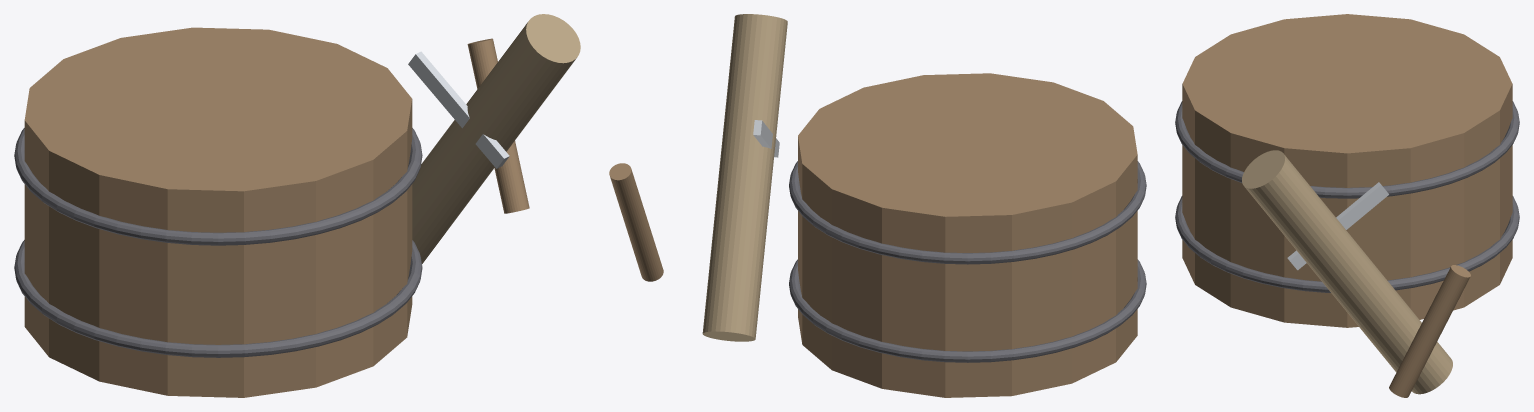
File: tannery_vat.glb
The picture shows the model from 3 angles, left to right: view 1: azimuth 30°, elevation 25°; view 2: azimuth 150°, elevation 25°; view 3: azimuth 270°, elevation 25°; orthographic projection. The views are drawn at different scales.
Parts seen in each view (by area): view 1: Cylinder, Cylinder.002, Torus, Torus.001, Cylinder.003, Cube; view 2: Cylinder, Cylinder.002, Torus.001, Torus, Cylinder.003, Cube; view 3: Cylinder, Cylinder.002, Torus, Torus.001, Cylinder.003, Cube.
Part boxes in pixels (bbox=[...]): Cylinder: bbox=[24, 27, 412, 397]; Cylinder.002: bbox=[412, 14, 580, 263]; Torus: bbox=[14, 240, 422, 357]; Torus.001: bbox=[14, 128, 422, 245]; Cylinder.003: bbox=[467, 38, 529, 213]; Cube: bbox=[408, 51, 509, 168]; Cylinder: bbox=[798, 73, 1137, 397]; Cylinder.002: bbox=[702, 14, 787, 341]; Torus.001: bbox=[789, 161, 1146, 264]; Torus: bbox=[789, 259, 1146, 362]; Cylinder.003: bbox=[609, 163, 663, 281]; Cube: bbox=[753, 120, 779, 157]; Cylinder: bbox=[1182, 14, 1512, 327]; Cylinder.002: bbox=[1242, 150, 1452, 394]; Torus: bbox=[1175, 196, 1519, 292]; Torus.001: bbox=[1175, 101, 1519, 198]; Cylinder.003: bbox=[1389, 265, 1470, 397]; Cube: bbox=[1287, 182, 1388, 270].
Bounding box in the file's own units: 2.75 × 1.55 × 1.88.
